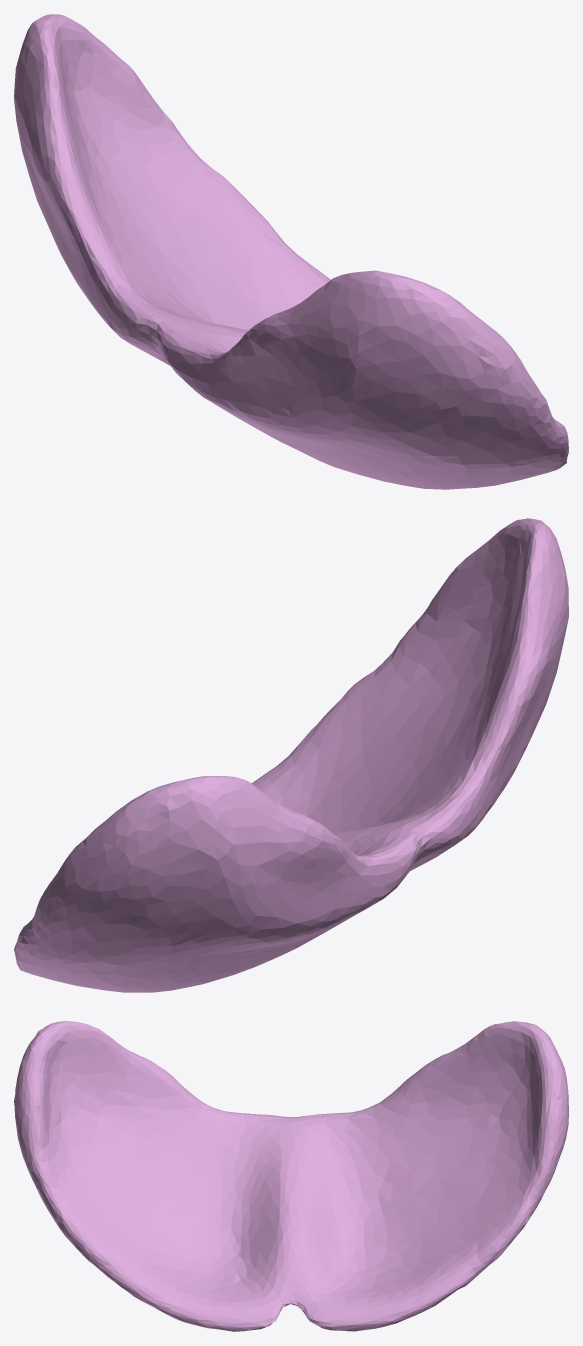
3 renders of one model, top to bottom at view 1: azimuth 30°, elevation 25°; view 2: azimuth 150°, elevation 25°; view 3: azimuth 270°, elevation 25°, orthographic. The views are drawn at different scales.
Visible parts, largest first — view 1: 10.obj; view 2: 10.obj; view 3: 10.obj.
Part boxes in pixels (x1=…): 10.obj: x1=14, y1=14, x2=568, y2=489; 10.obj: x1=14, y1=518, x2=568, y2=992; 10.obj: x1=14, y1=1021, x2=568, y2=1331.
Bounding box in the file's own units: 1913 × 1842 × 4083.
